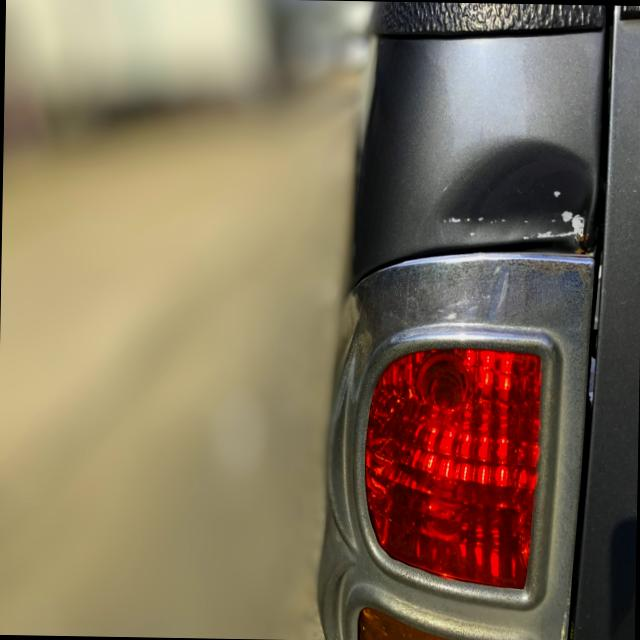Cabossage: (430, 133, 603, 254)
